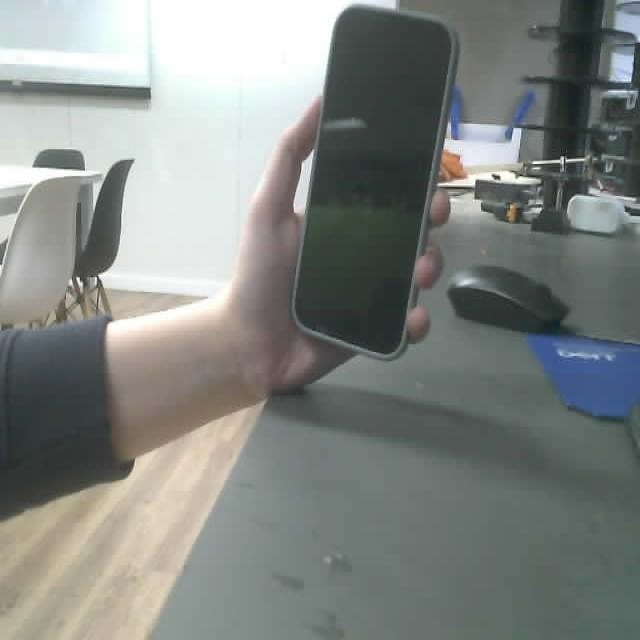phone: (291, 7, 455, 360)
